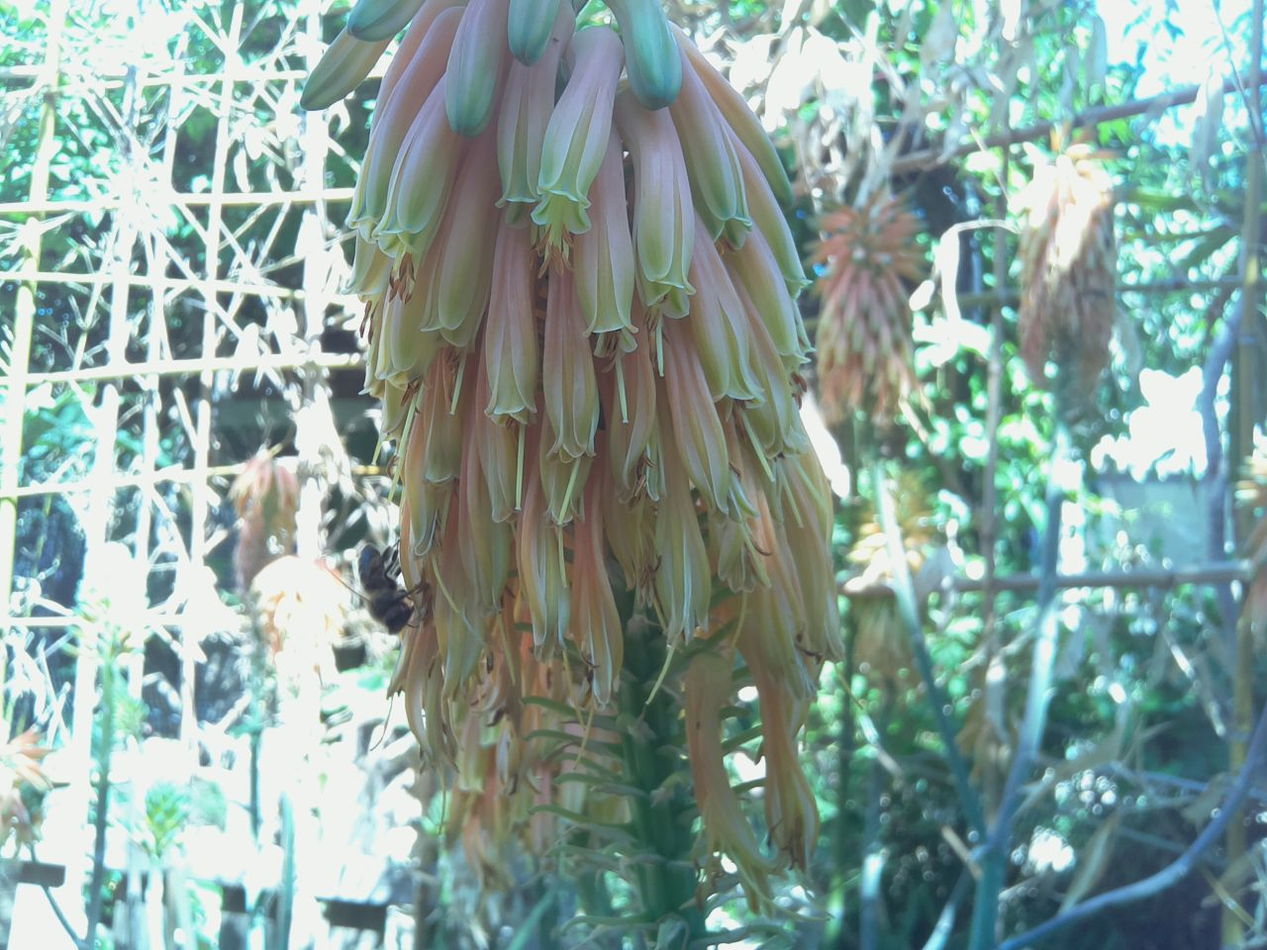Apis mellifera: (300, 517, 452, 656)
